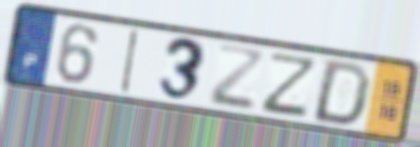3: (156, 34, 212, 104)
6: (55, 22, 101, 87)
D: (308, 58, 374, 129)
I: (117, 26, 143, 96)
Z: (257, 50, 321, 119), (207, 41, 267, 114)
